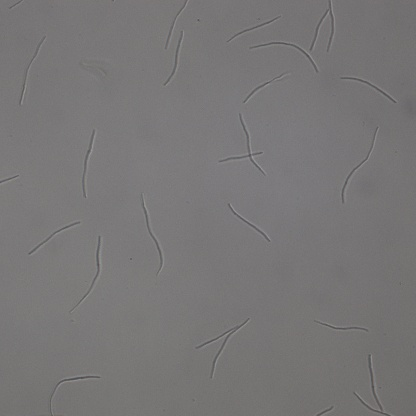Sensitive: (195, 317, 250, 379), (340, 125, 380, 205), (219, 112, 268, 177), (70, 234, 103, 311), (353, 354, 392, 416), (46, 375, 100, 416), (139, 193, 165, 276), (250, 40, 318, 71), (18, 36, 47, 103), (228, 202, 271, 243), (29, 221, 79, 254), (341, 75, 396, 103), (225, 15, 283, 41), (308, 1, 335, 53), (246, 71, 289, 101), (165, 31, 186, 88), (164, 1, 188, 49), (81, 129, 97, 198), (314, 319, 368, 334)
